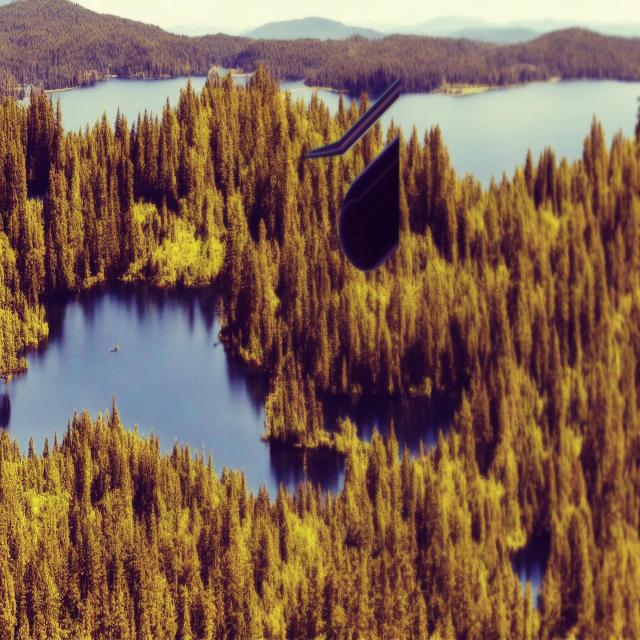airplane: (301, 79, 402, 274)
